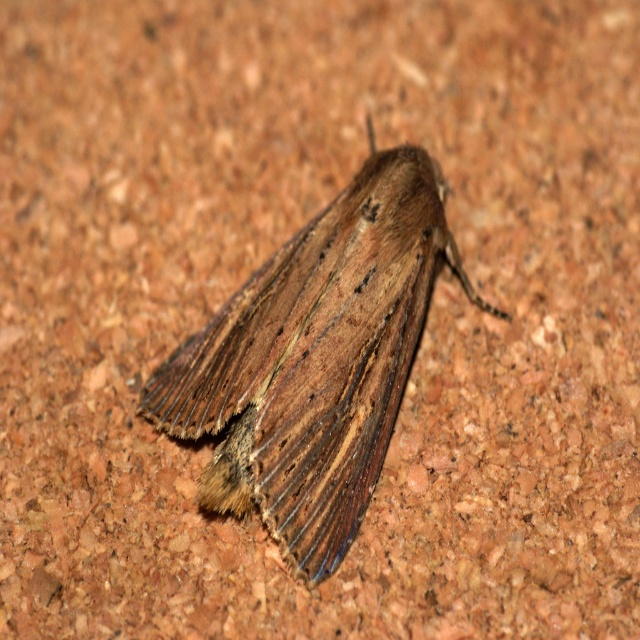Moths and butterflies: (133, 108, 515, 593)
